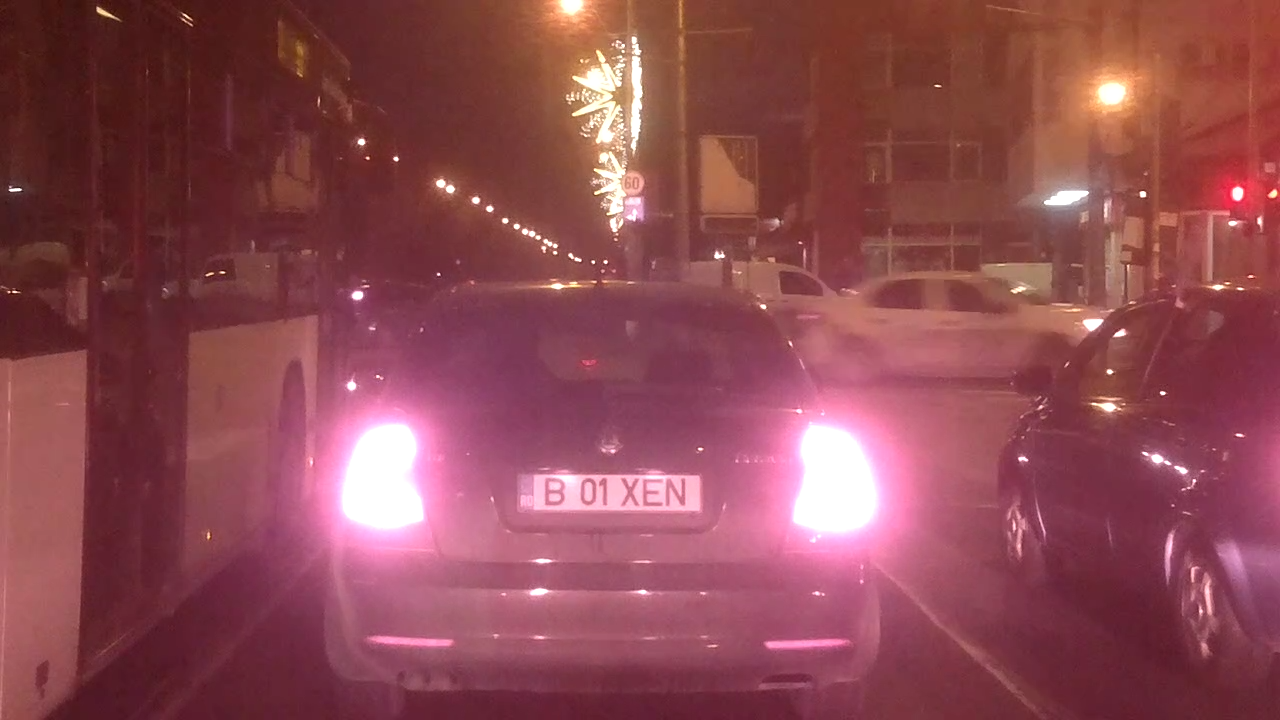license-plate: (512, 470, 709, 515)
